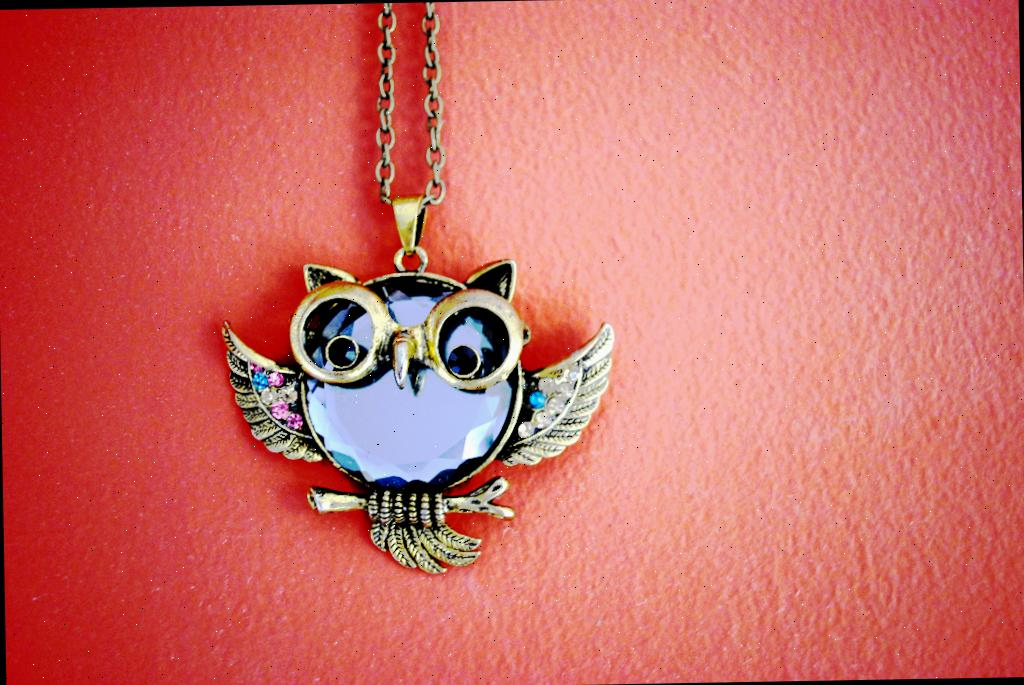Owl: (224, 248, 618, 590)
